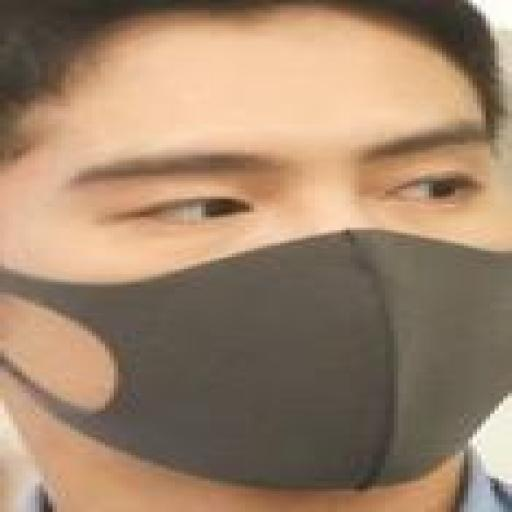mask: (0, 41, 512, 512)
